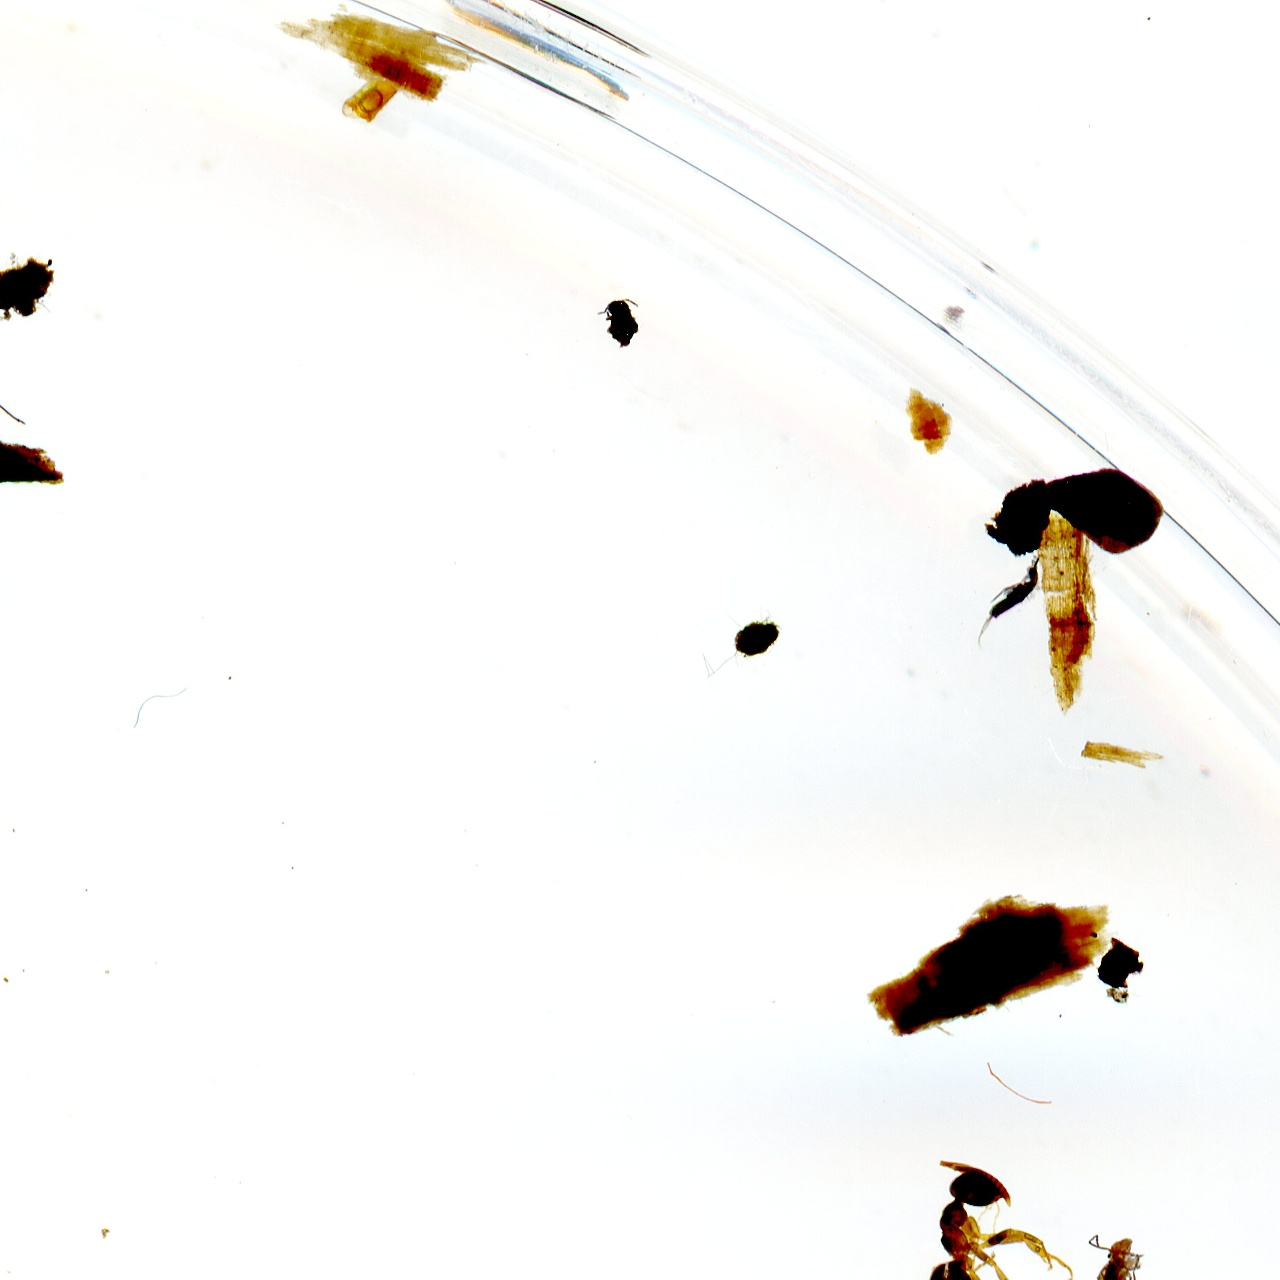arthropod: (920, 1155, 1078, 1280), (973, 554, 1043, 649), (0, 265, 28, 430), (1085, 1230, 1146, 1280), (595, 295, 641, 350)
